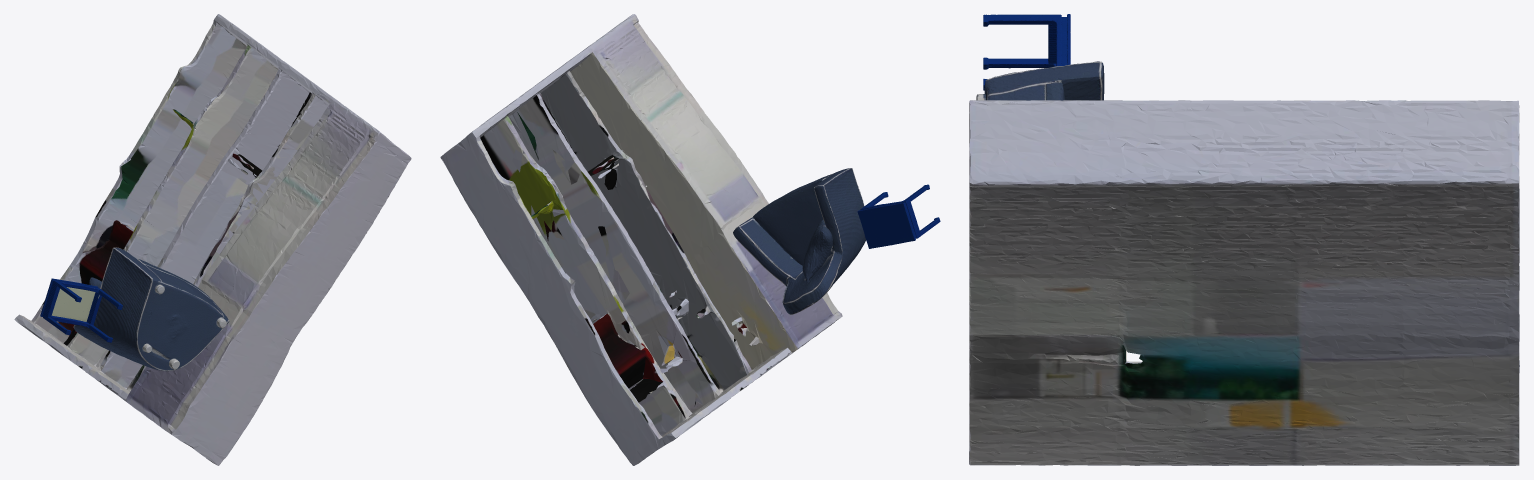
The model's file is scene_0000181_assembled.glb.
3 views of the same model, side by side, from view 1: azimuth 30°, elevation 25°; view 2: azimuth 150°, elevation 25°; view 3: azimuth 270°, elevation 25° (orthographic). The views are drawn at different scales.
Parts seen in each view (by area): view 1: world; view 2: world; view 3: world.
Boxes of the visible parts, x1,y1,x2,y2 form: world: [14, 14, 411, 465]; world: [440, 14, 940, 465]; world: [969, 14, 1519, 465].
Bounding box in the file's own units: 1.96 × 1.61 × 1.61.
Materials: 3 (3 with a texture image).
